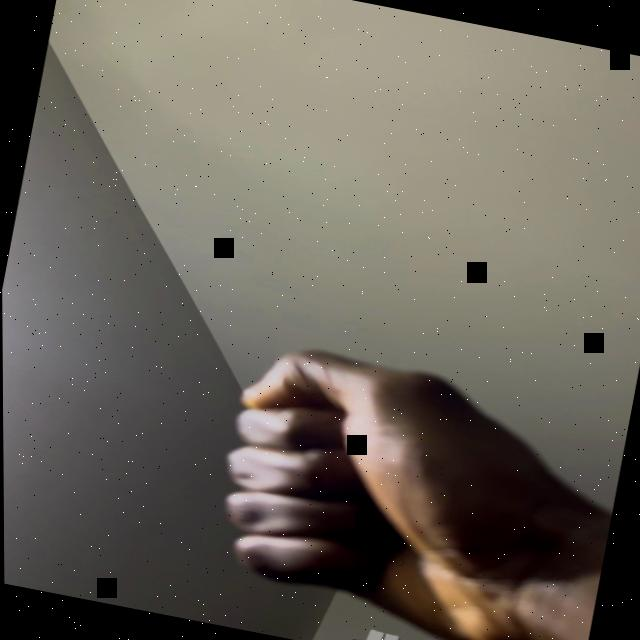Rock: (196, 333, 633, 640)
